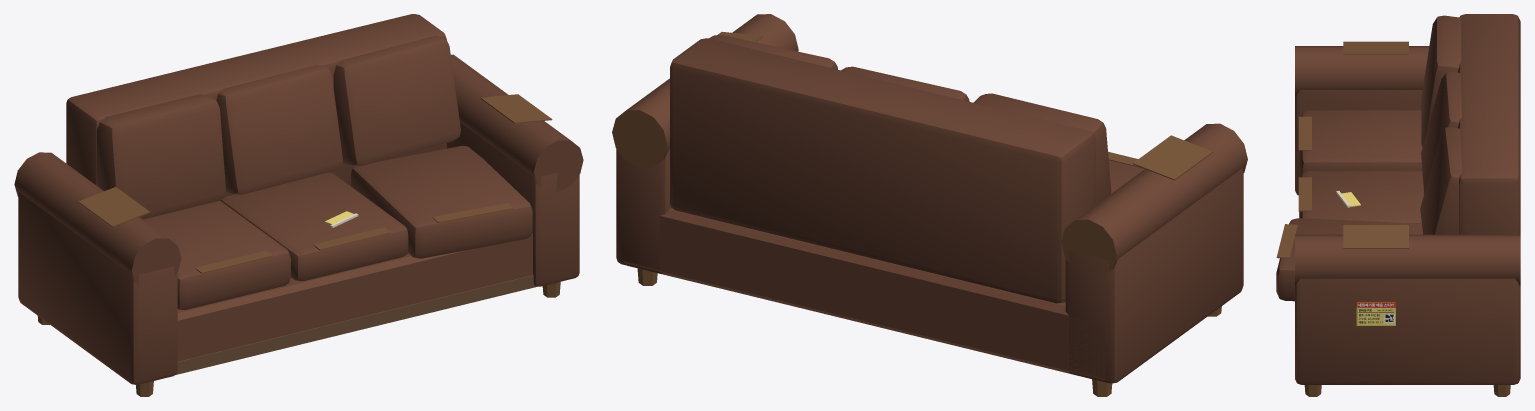
File: SC_Home_Old_Sofa.gltf
3 views of the same model, side by side, from view 1: azimuth 30°, elevation 25°; view 2: azimuth 150°, elevation 25°; view 3: azimuth 270°, elevation 25° (orthographic). The views are drawn at different scales.
Parts seen in each view (by area): view 1: SC_Home_Old_Sofa; view 2: SC_Home_Old_Sofa; view 3: SC_Home_Old_Sofa.
Boxes of the visible parts, left/top/right/bottom form: SC_Home_Old_Sofa: left=14, top=14, right=583, bottom=396; SC_Home_Old_Sofa: left=612, top=14, right=1247, bottom=396; SC_Home_Old_Sofa: left=1276, top=14, right=1520, bottom=396.
Size of the model in its own units: 1.91 by 0.8624 by 0.9303.
Materials: 2 (2 with a texture image).
